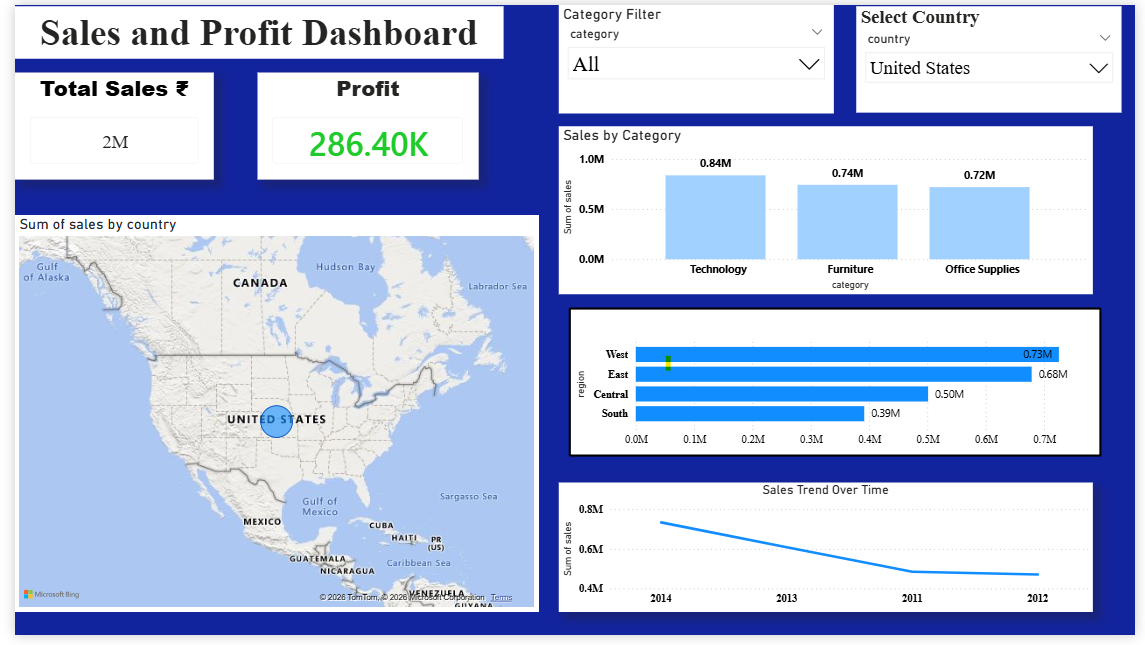

What the dashboard file says about the page in this screenshot:
{"tool":"powerbi","page":{"name":"Page 1","canvas":[1280,720],"ordinal":0},"visuals":[{"type":"cardVisual","title":"Total Sales ₹","fields":{"Data":["Sum(SuperStoreOrders(AutoRecovered).sales)"]},"box":[0,77.5,227.5,122.5],"z":0},{"type":"cardVisual","title":"Profit ","fields":{"Data":["Sum(SuperStoreOrders(AutoRecovered).profit)"]},"box":[277.5,77.5,252.5,122.5],"z":1000},{"type":"clusteredColumnChart","title":"Sales by Category","fields":{"Category":["SuperStoreOrders(AutoRecovered).category"],"Y":["Sum(SuperStoreOrders(AutoRecovered).sales)"]},"box":[622,138,610,192],"z":2000},{"type":"clusteredBarChart","title":"Sales by Region","fields":{"Category":["SuperStoreOrders(AutoRecovered).region"],"Y":["Sum(SuperStoreOrders(AutoRecovered).sales)"]},"box":[632.5,346.2,608.8,170],"z":3000},{"type":"lineChart","title":"Sales Trend Over Time","fields":{"Y":["Sum(SuperStoreOrders(AutoRecovered).sales)"],"Category":["SuperStoreOrders(AutoRecovered).year"]},"box":[621.7,545,610,148.3],"z":4000},{"type":"slicer","title":"Category Filter","fields":{"Values":["SuperStoreOrders(AutoRecovered).category"]},"box":[622,0,314,124],"z":6000},{"type":"textbox","box":[0,2,558,60],"z":7000},{"type":"map","fields":{"Category":["SuperStoreOrders(AutoRecovered).country"],"Size":["Sum(SuperStoreOrders(AutoRecovered).sales)"]},"box":[0,240,598.3,453.3],"z":8000},{"type":"slicer","title":"Select Country","fields":{"Values":["SuperStoreOrders(AutoRecovered).country"]},"box":[961.7,1.7,303.3,121.7],"z":9000}]}

Visuals, with their boxes in screenshot pixels (x1, y1, x2, y2), scaled from the page's 1280x720 canvas onto the 1145x645 screenshot:
"Total Sales ₹" cardVisual: <bbox>0, 69, 204, 179</bbox>
"Profit " cardVisual: <bbox>248, 69, 474, 179</bbox>
"Sales by Category" clusteredColumnChart: <bbox>556, 124, 1102, 296</bbox>
"Sales by Region" clusteredBarChart: <bbox>566, 310, 1110, 462</bbox>
"Sales Trend Over Time" lineChart: <bbox>556, 488, 1102, 621</bbox>
"Category Filter" slicer: <bbox>556, 0, 837, 111</bbox>
textbox: <bbox>0, 2, 499, 56</bbox>
map - SuperStoreOrders(AutoRecovered).country x Sum(SuperStoreOrders(AutoRecovered).sales): <bbox>0, 215, 535, 621</bbox>
"Select Country" slicer: <bbox>860, 2, 1132, 111</bbox>
